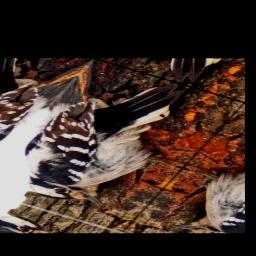Woodpecker: (0, 60, 243, 224)
